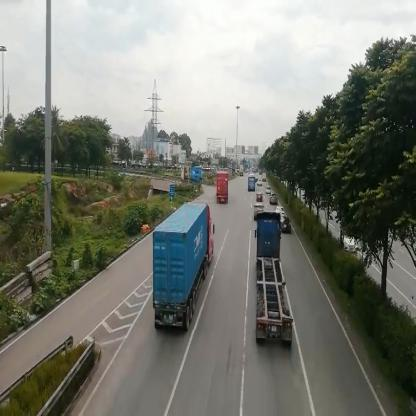bus: (248, 178, 257, 193)
car: (282, 220, 293, 232), (256, 205, 265, 216), (257, 194, 264, 203), (267, 185, 272, 196), (272, 196, 278, 205)
container: (156, 203, 216, 331), (257, 214, 283, 340), (217, 173, 229, 206), (182, 168, 203, 186)
